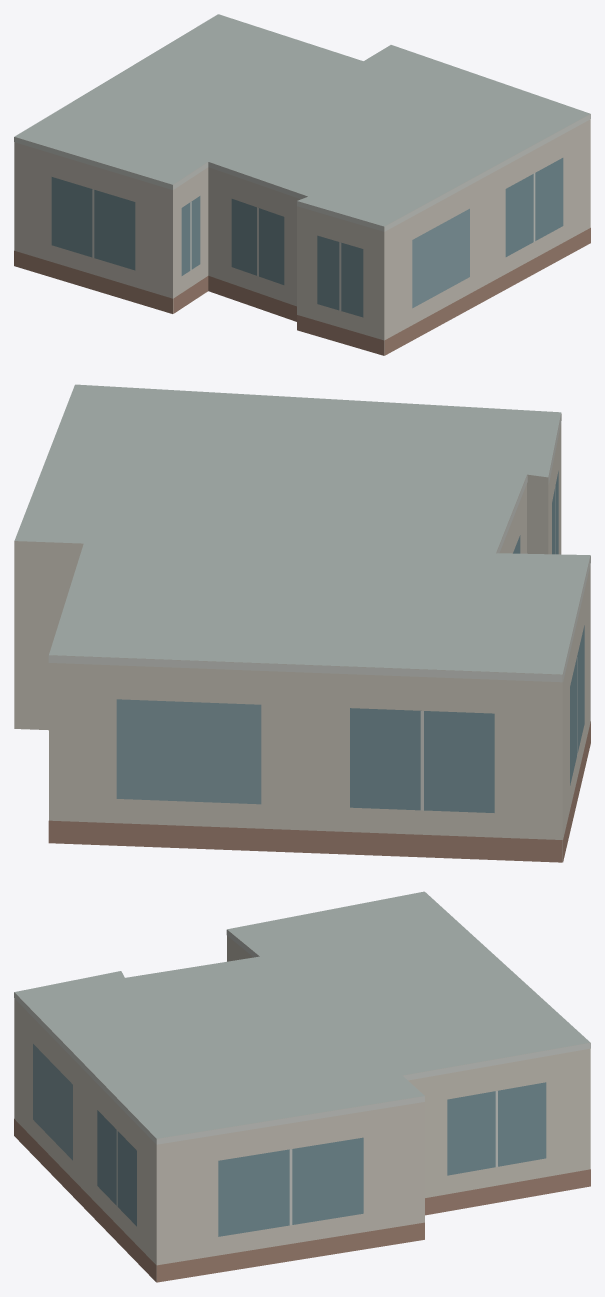
File: survey-upis-32784427.glb
The picture shows the model from 3 angles, top to bottom: view 1: azimuth 30°, elevation 25°; view 2: azimuth 150°, elevation 25°; view 3: azimuth 270°, elevation 25°; orthographic projection. The views are drawn at different scales.
Parts seen in each view (by area): view 1: survey-upis-32784427.tmp; view 2: survey-upis-32784427.tmp; view 3: survey-upis-32784427.tmp.
Part boxes in pixels (bbox=[...]): survey-upis-32784427.tmp: bbox=[14, 14, 590, 355]; survey-upis-32784427.tmp: bbox=[14, 384, 590, 862]; survey-upis-32784427.tmp: bbox=[14, 891, 590, 1282].
Bounding box in the file's own units: 11.27 × 3.05 × 11.1.
